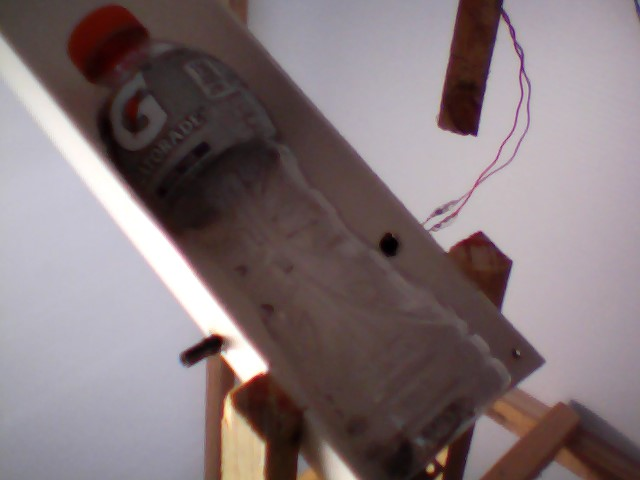plastico: (59, 4, 517, 480)
